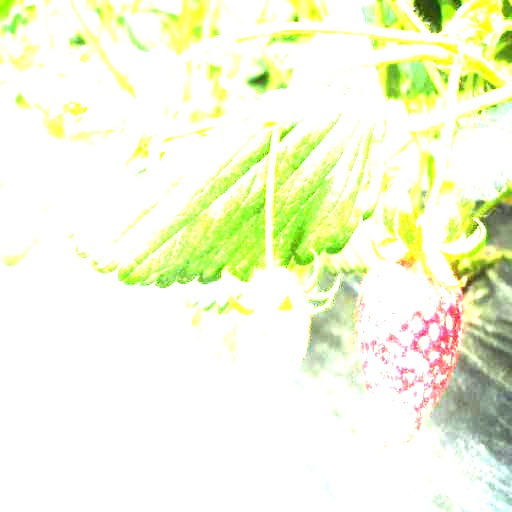Powdery Mildew Fruit: (356, 231, 464, 453), (227, 269, 311, 416)
